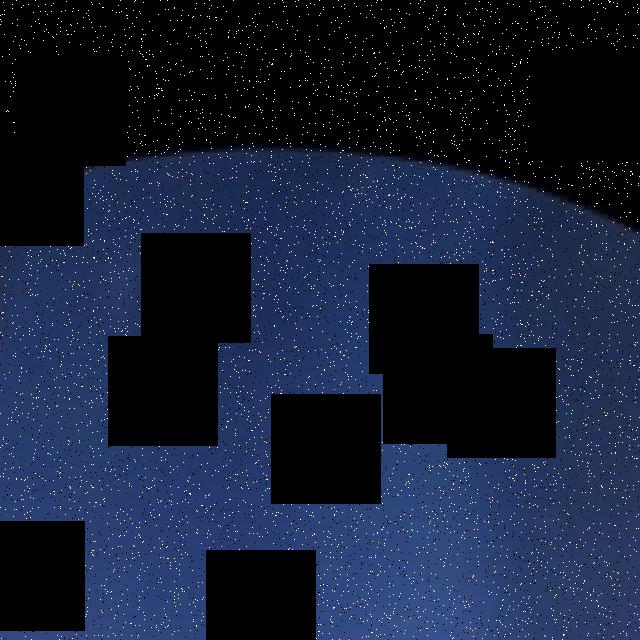Neptune: (0, 142, 640, 640)
